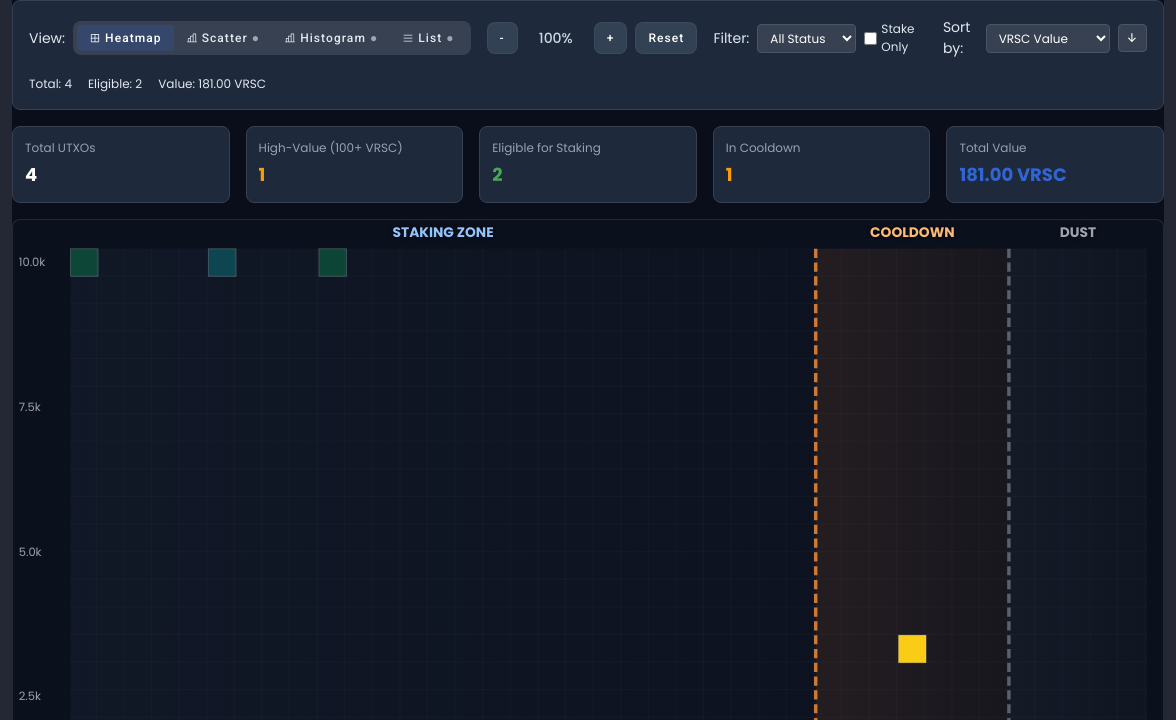
Test: AdvancedUTXOVisualizer Component › Filtering › should filter by stake only
Click the checkbox labelled "Stake Only" at coordinates (871, 38), box [864,32,877,44]
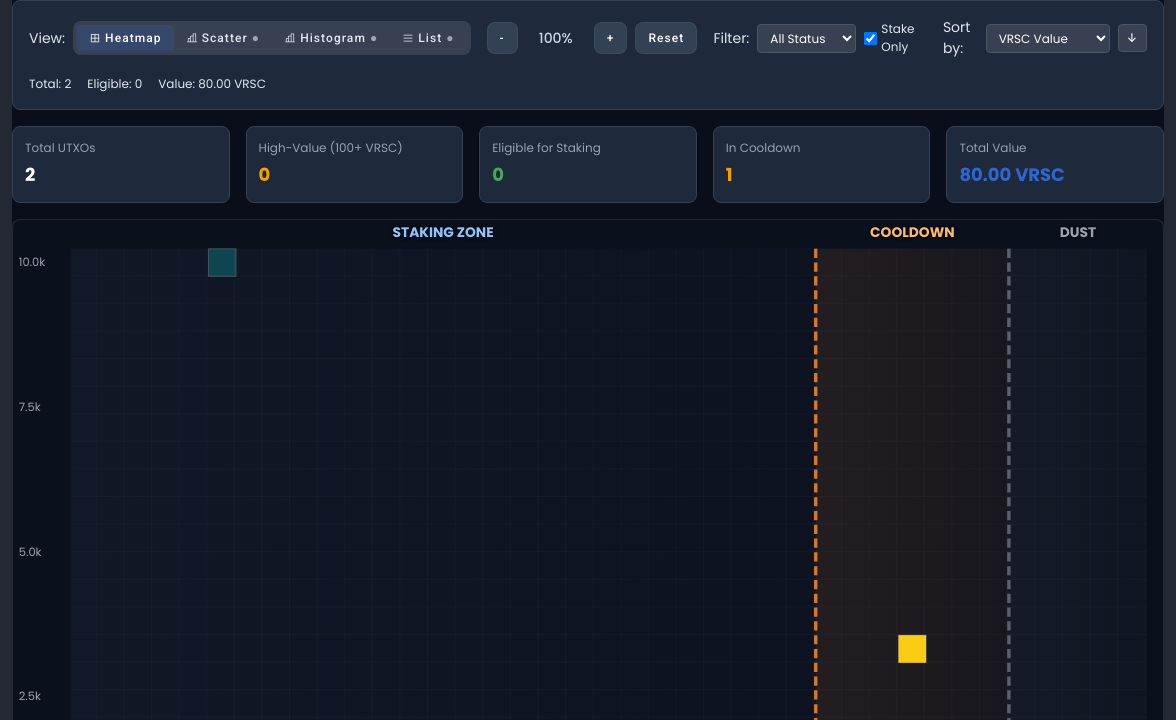
Result: the text "Total: 2" is shown at [29,75,71,93]
